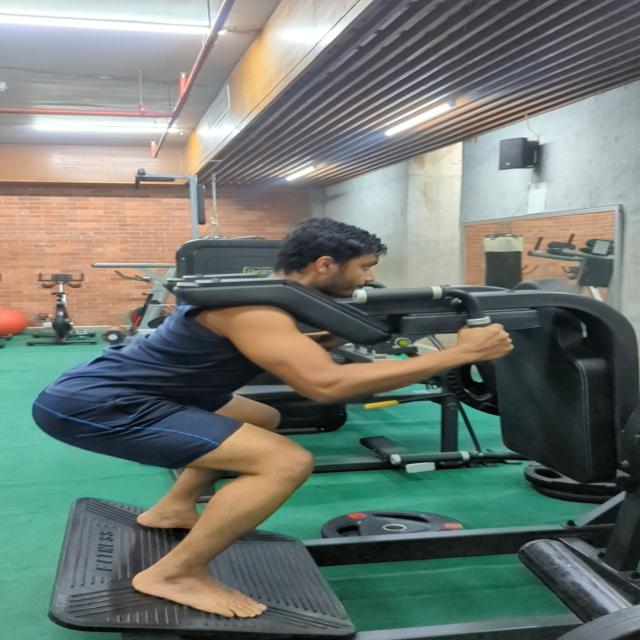Normal_SquatsWithBarbell: (0, 231, 596, 635)
